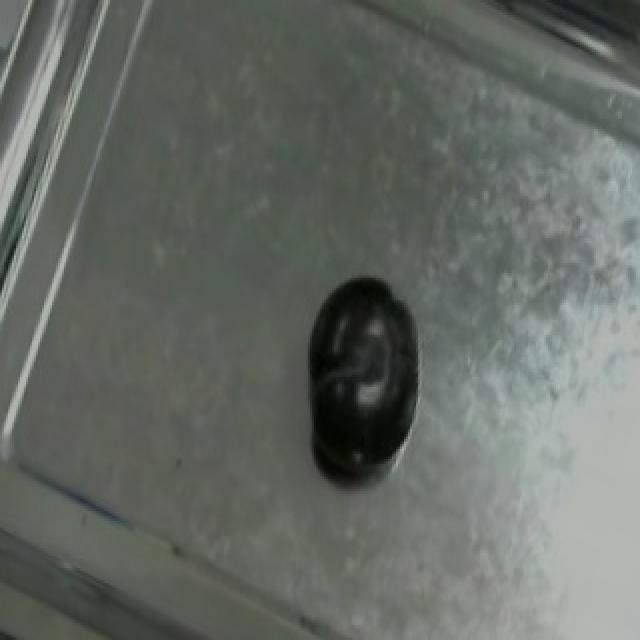Fruit: (286, 265, 428, 489)
